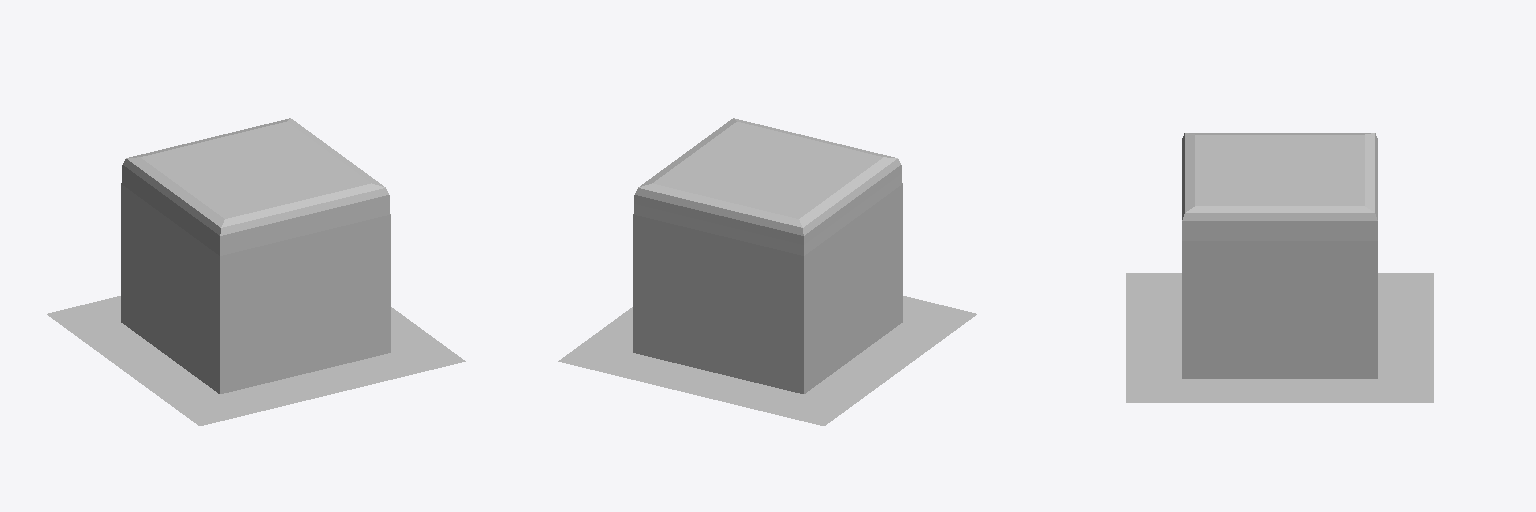
The model's file is Block.obj.
3 views of the same model, side by side, from view 1: azimuth 30°, elevation 25°; view 2: azimuth 150°, elevation 25°; view 3: azimuth 270°, elevation 25° (orthographic).
Parts seen in each view (by area): view 1: Cube.001; view 2: Cube.001; view 3: Cube.001.
Part boxes in pixels (x1,y1,x2,y2): Cube.001: (47,118,465,425); Cube.001: (558,118,976,425); Cube.001: (1126,133,1433,402).
Bounding box in the file's own units: 3.15 × 1.93 × 3.15.